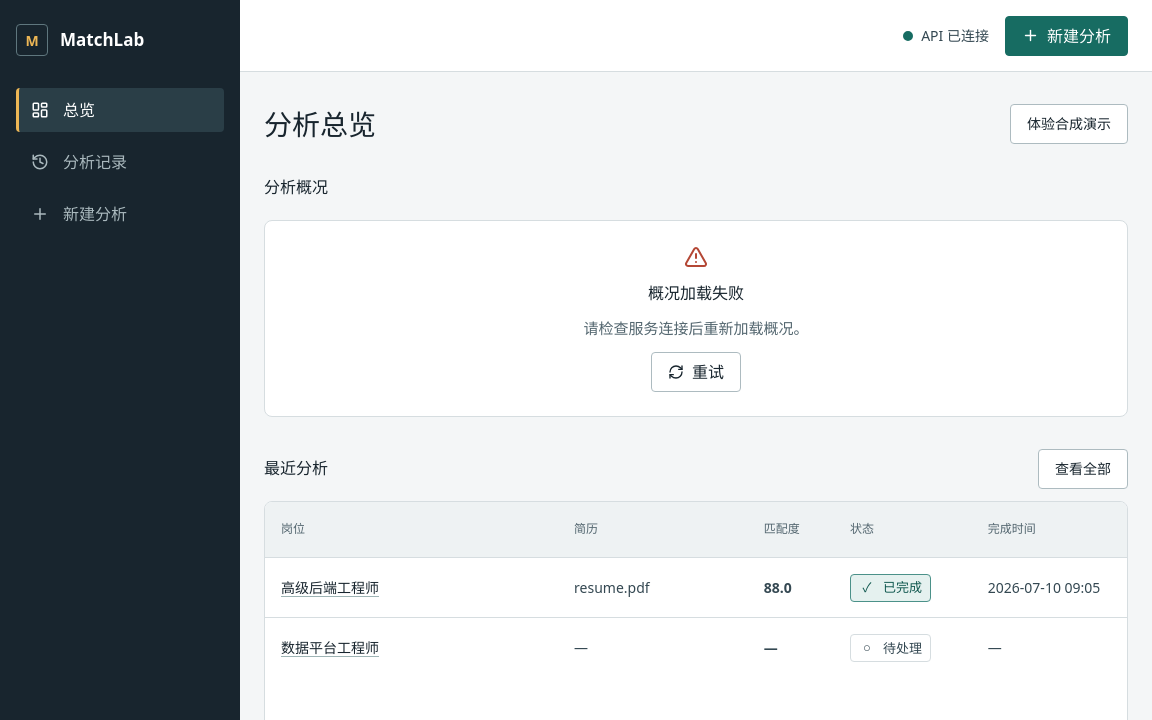
exhausts the production summary retry once before a manual retry succeeds
Expected: the message "概况加载失败 请检查服务连接后重新加载概况。 重试" is shown, [264, 220, 1128, 416]
Expected: the link "高级后端工程师" is shown, [281, 578, 379, 597]
Click the button "重试". click: (696, 372)
box: [651, 352, 741, 392]
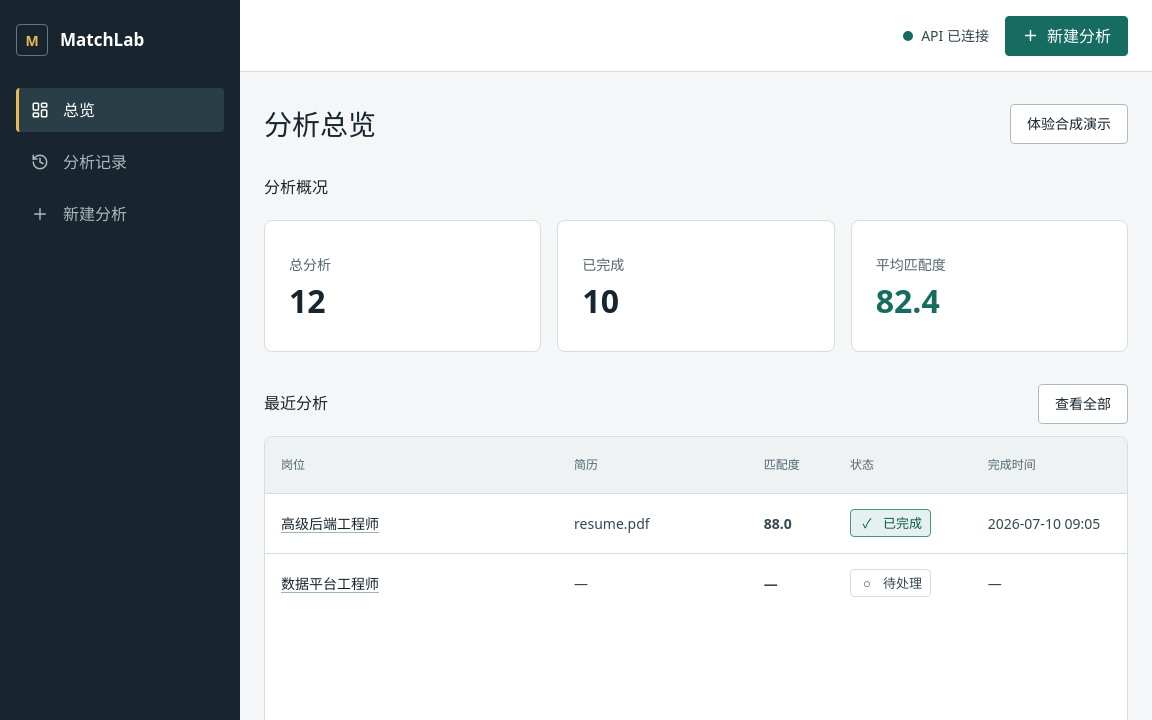
Now the text "12" is shown, box [289, 279, 326, 322]
